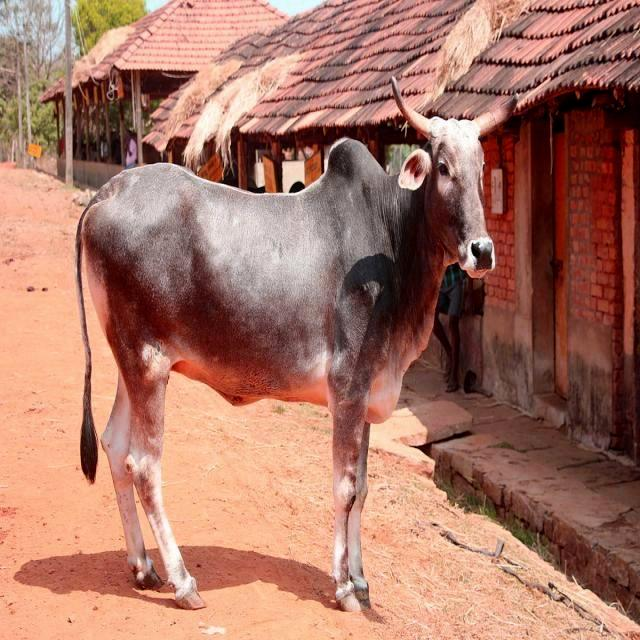COW: (76, 81, 515, 611)
